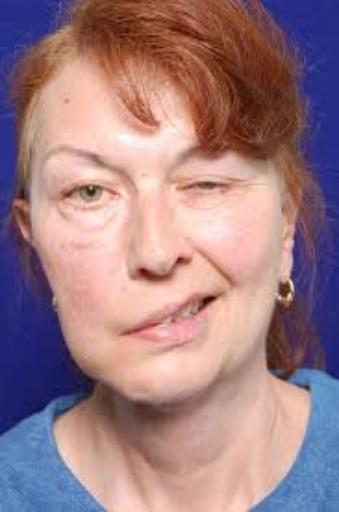left_eye: (177, 179, 244, 204)
left_lip_corner: (208, 287, 228, 310)
right_eye: (63, 183, 122, 213)
right_lip_corner: (117, 327, 139, 345)
